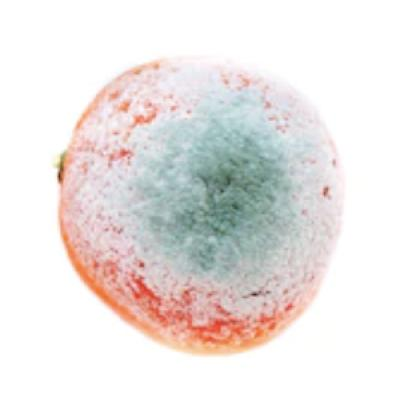rotten: (58, 55, 348, 354)
